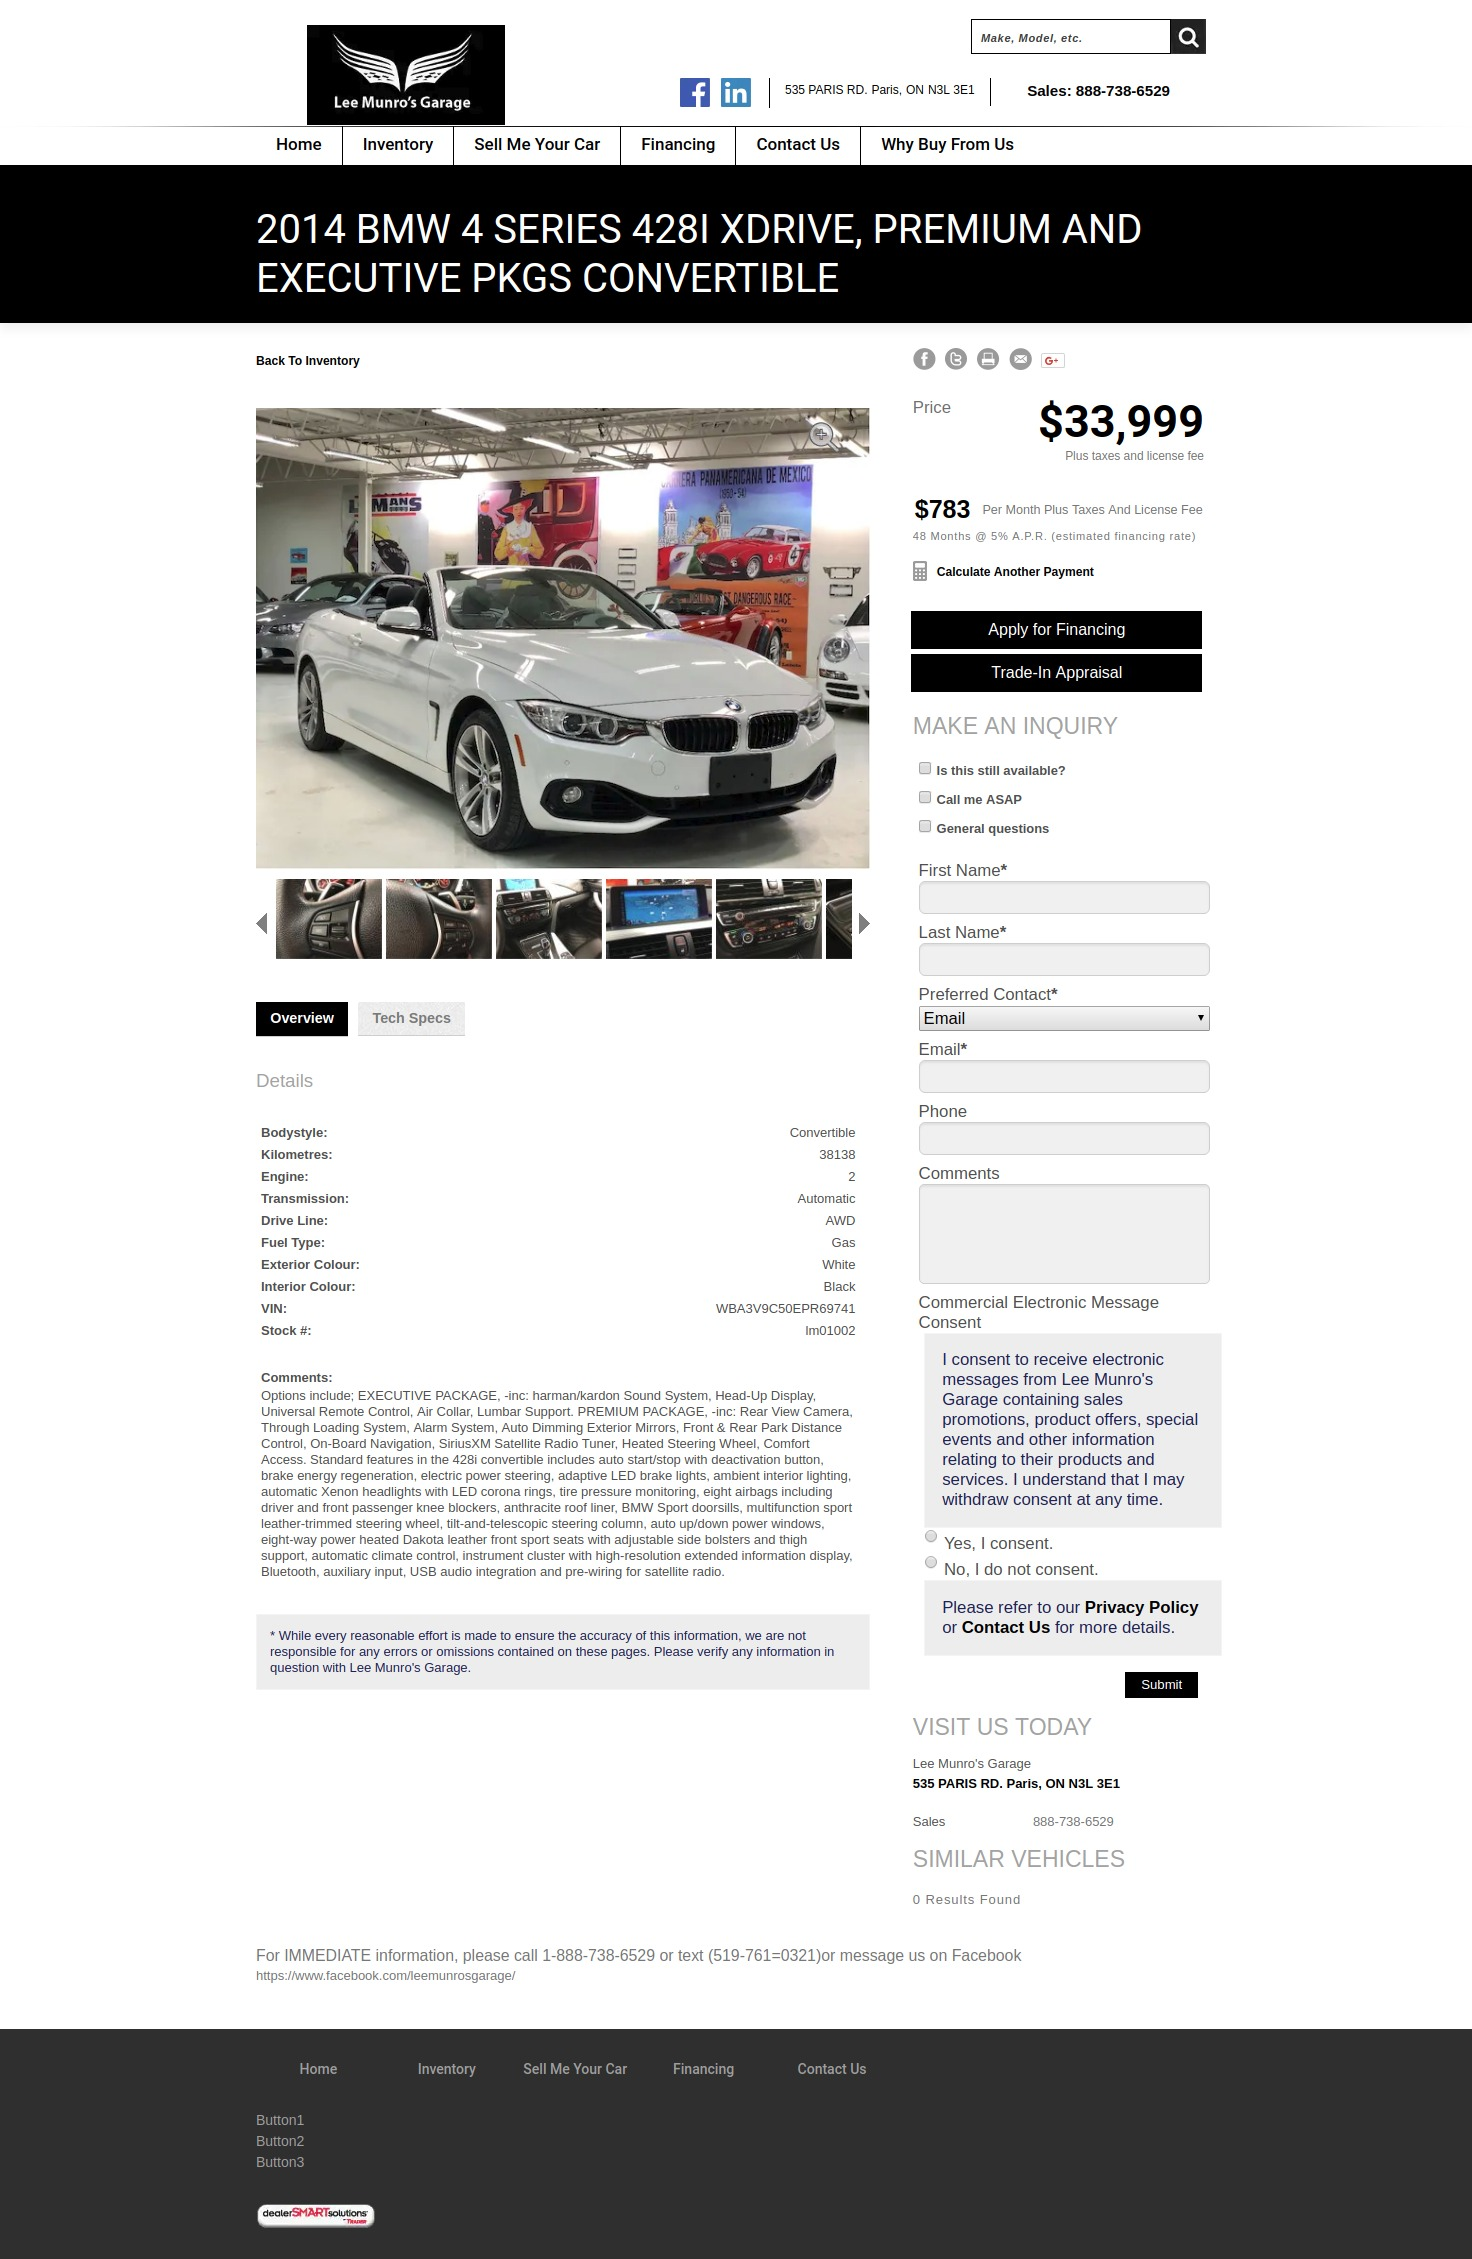car: (859, 912, 873, 935)
